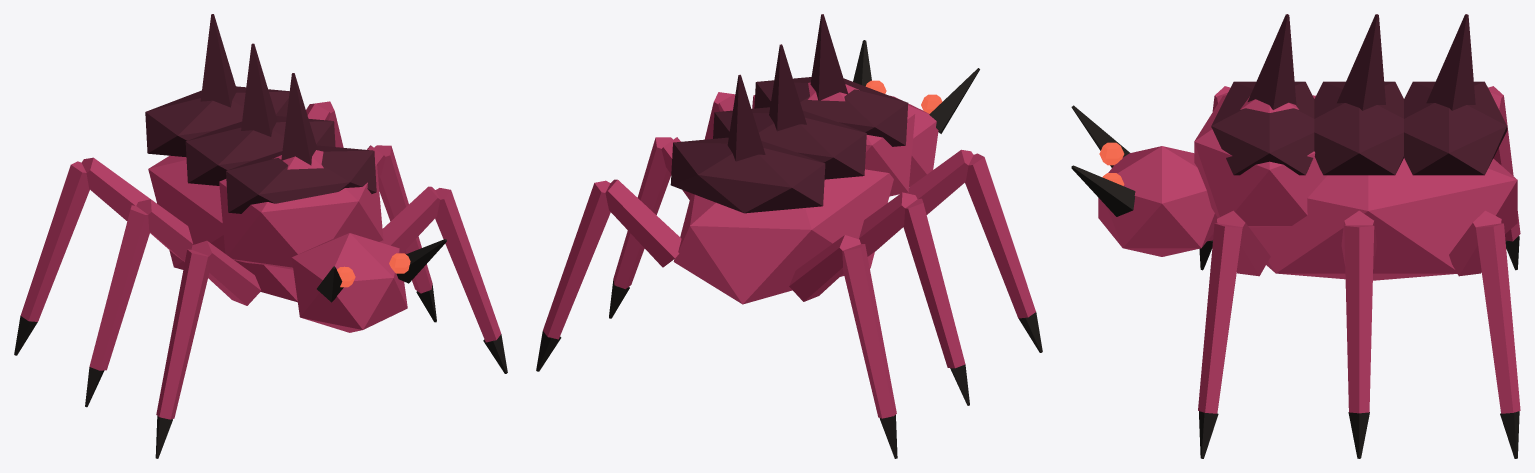
Rendered from exo-brute.glb.
The picture shows the model from 3 angles, left to right: view 1: azimuth 30°, elevation 25°; view 2: azimuth 150°, elevation 25°; view 3: azimuth 270°, elevation 25°; orthographic projection. The views are drawn at different scales.
Parts seen in each view (by area): view 1: body; view 2: body; view 3: body.
Part boxes in pixels (x1,y1,x2,y2): body: (14,14,507,458); body: (536,14,1042,458); body: (1071,14,1520,458).
Size of the model in its own units: 2.52 by 2.15 by 2.51.
